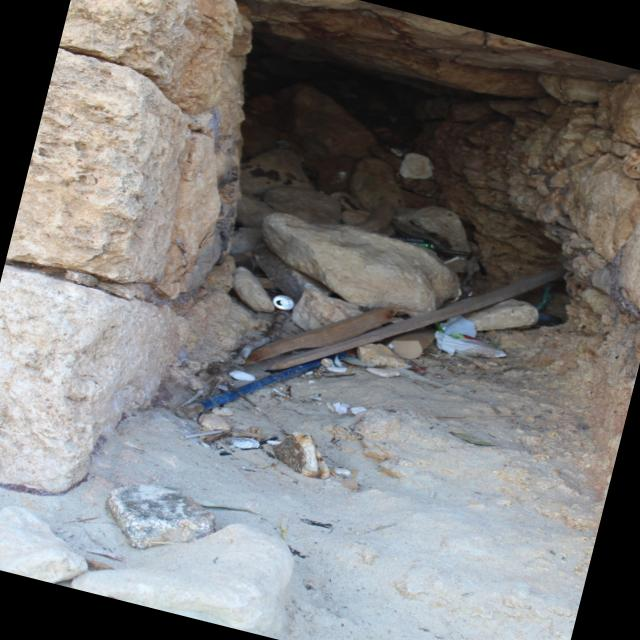Aluminium foil: (229, 437, 258, 449)
Can: (389, 236, 436, 250), (271, 294, 295, 311)
Cigarette: (198, 436, 208, 439)
Other litter: (169, 357, 322, 420), (433, 315, 507, 358), (198, 435, 233, 459), (535, 283, 553, 312), (260, 437, 276, 445)
Straw: (178, 429, 223, 440)
Styrofoam piece: (398, 151, 435, 179), (266, 440, 281, 445)
